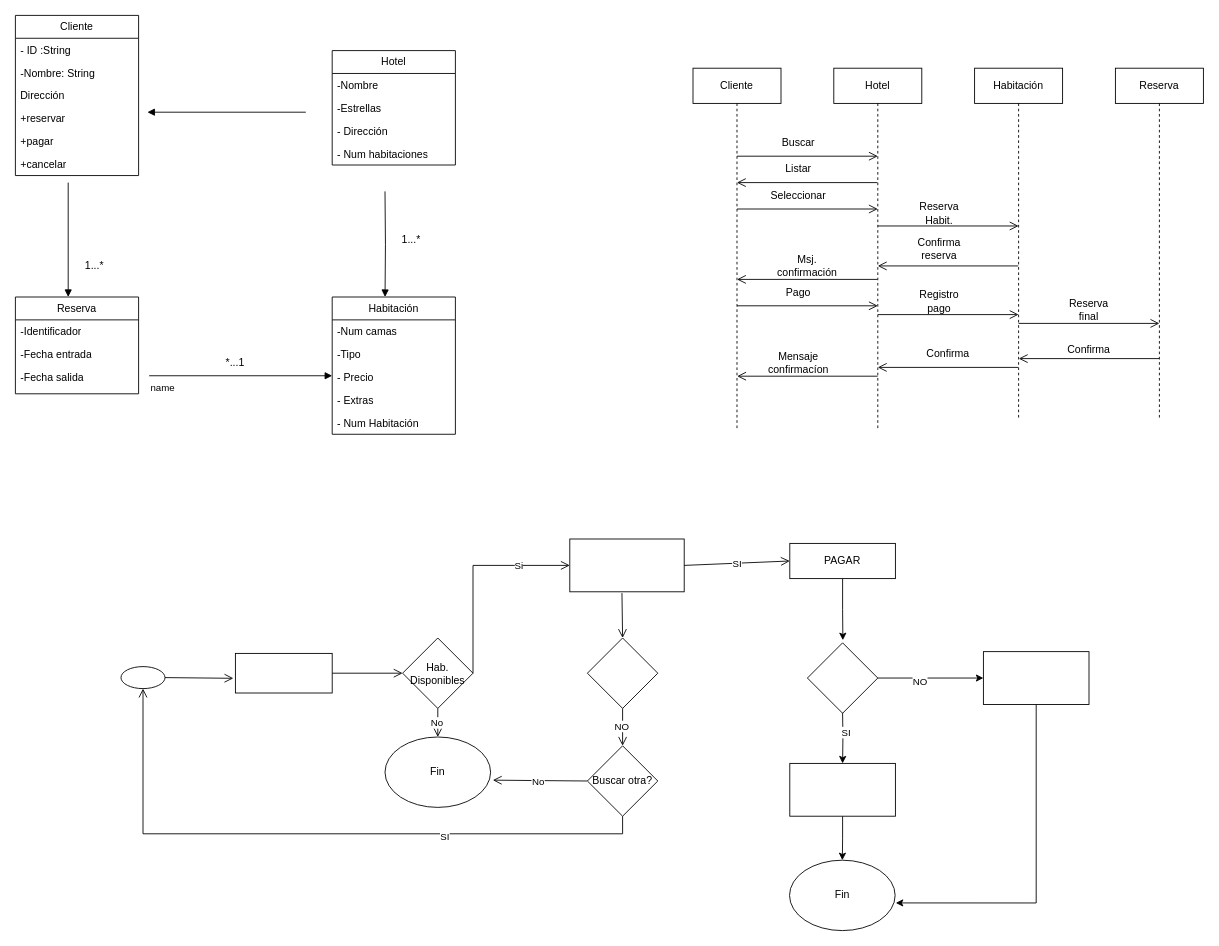
Image size: 1219x946. Some labels were removed from this diagram. The centre of each missing label's shape, as x and y in pixels:
"Buscar habitación" goes at (283,673).
"Confirmar reserva" goes at (842,789).
"Disponible?" goes at (622,672).
"Inicio" goes at (142,677).
"Pago aceptado?" goes at (842,677).
"Rechazar reserva" goes at (1036,677).
"Reserva hab." goes at (626,565).
